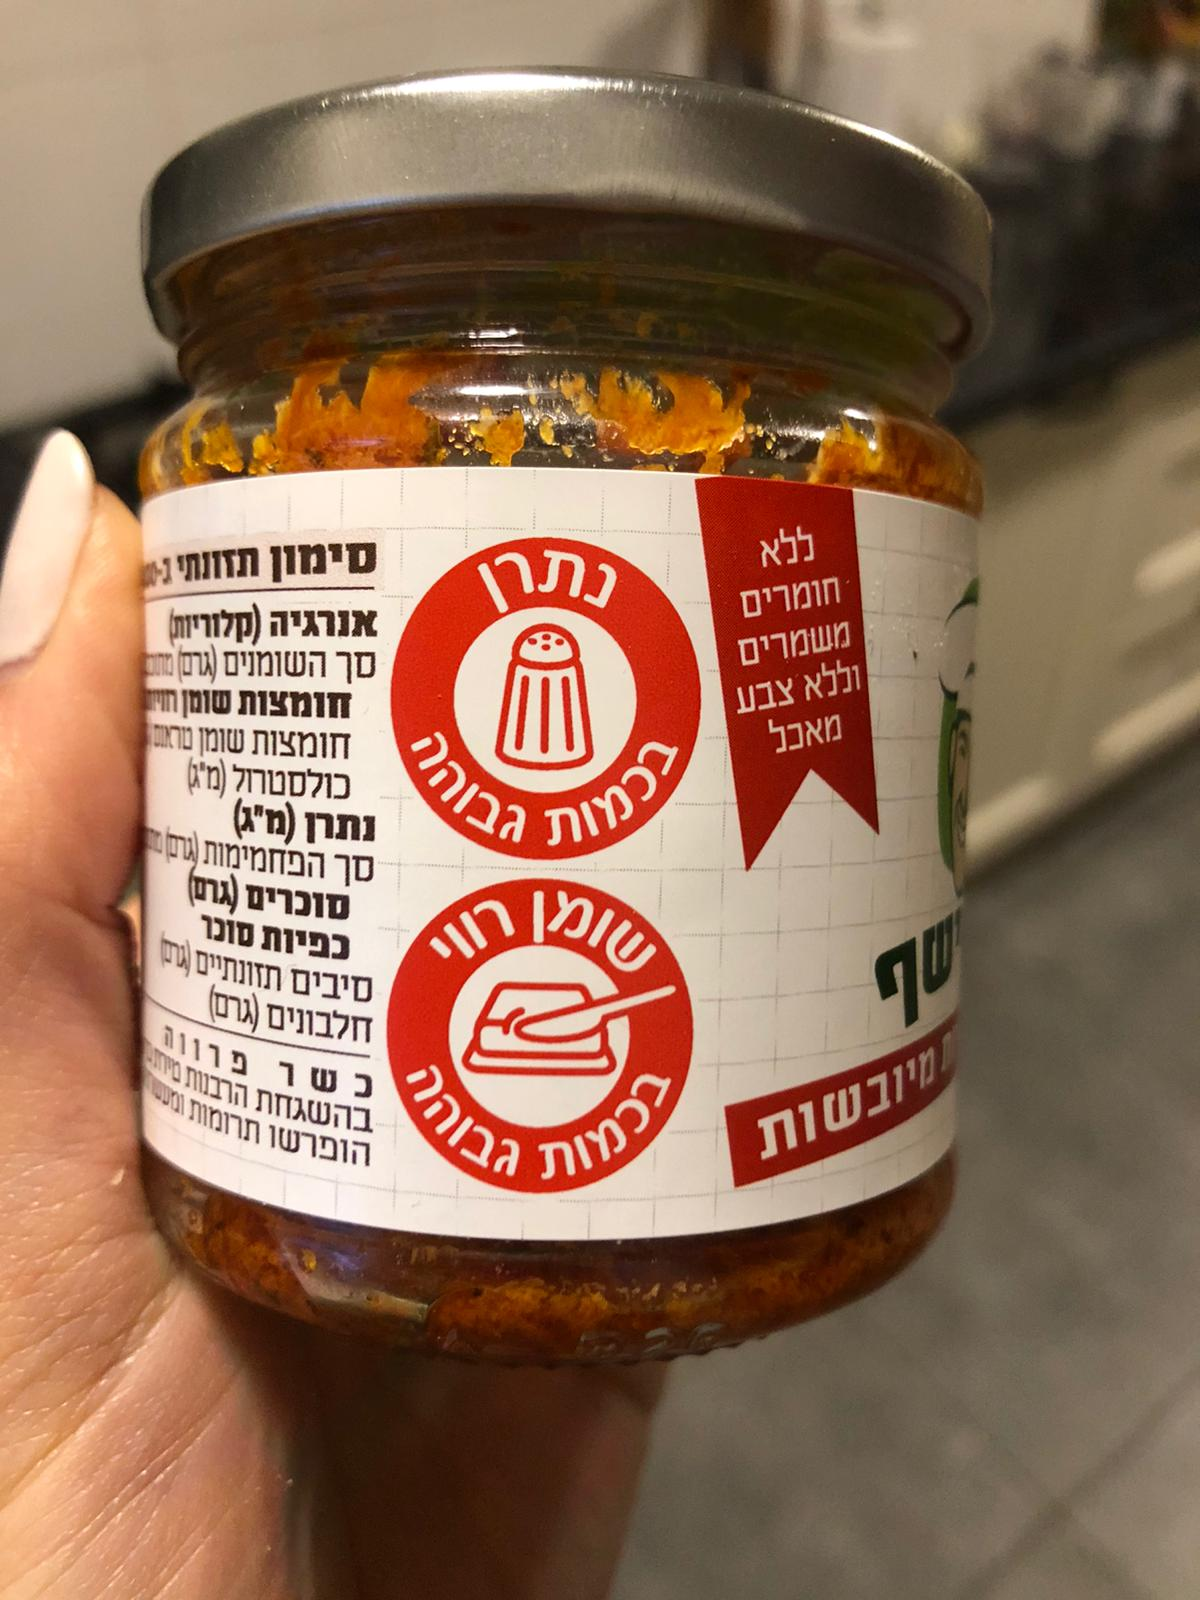fat: (386, 876, 700, 1199)
salt: (387, 535, 706, 863)
